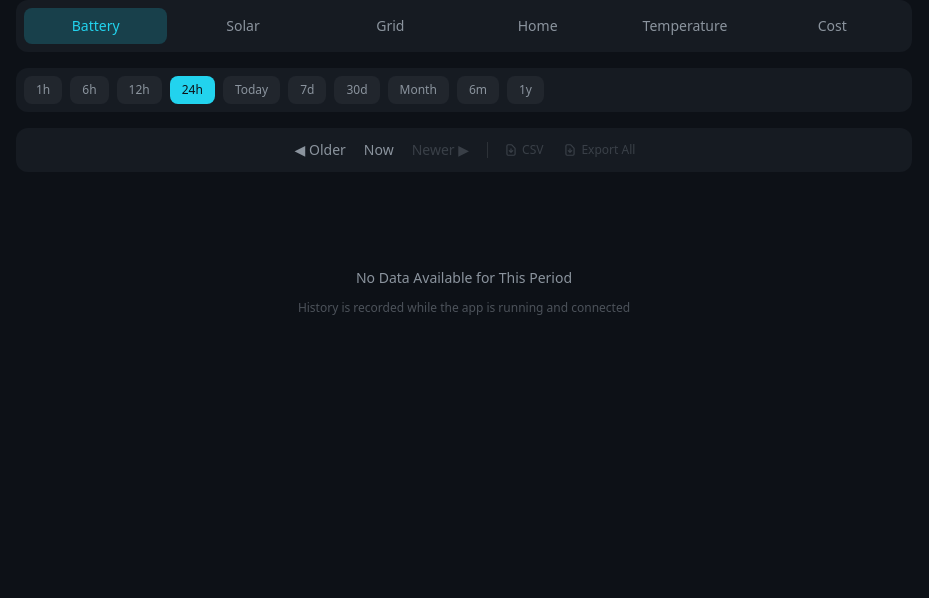
<HistoryPage/> — period totals, cost breakdown, window labels › period totals — per-tab additive values › shows Import Cost / Export Income / Net Cost on the Cost tab
Click the button "Cost".
click(832, 26)  # box x1=761 y1=8 x2=904 y2=44
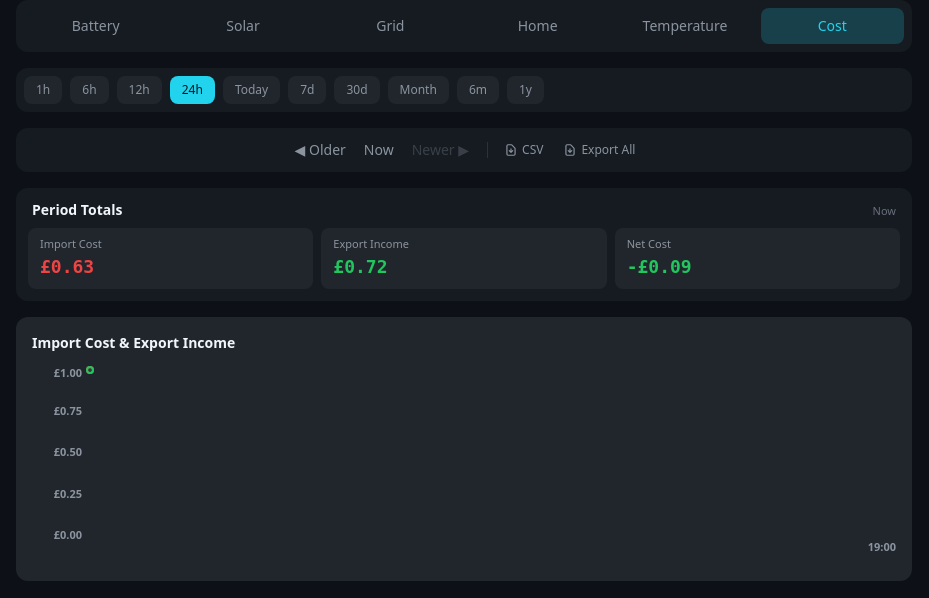
Now the text "Import Cost" is shown, box x1=40 y1=236 x2=102 y2=251
Now the text "Export Income" is shown, box x1=333 y1=236 x2=409 y2=251
Now the text "Net Cost" is shown, box x1=627 y1=236 x2=671 y2=251
